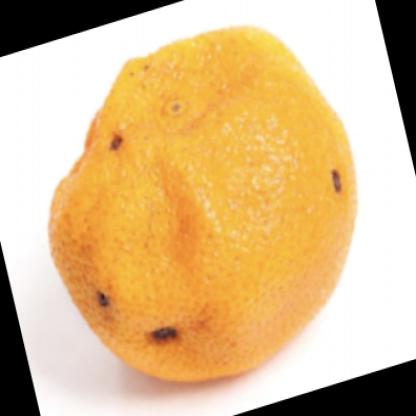rotten_orange: (42, 18, 355, 389)
